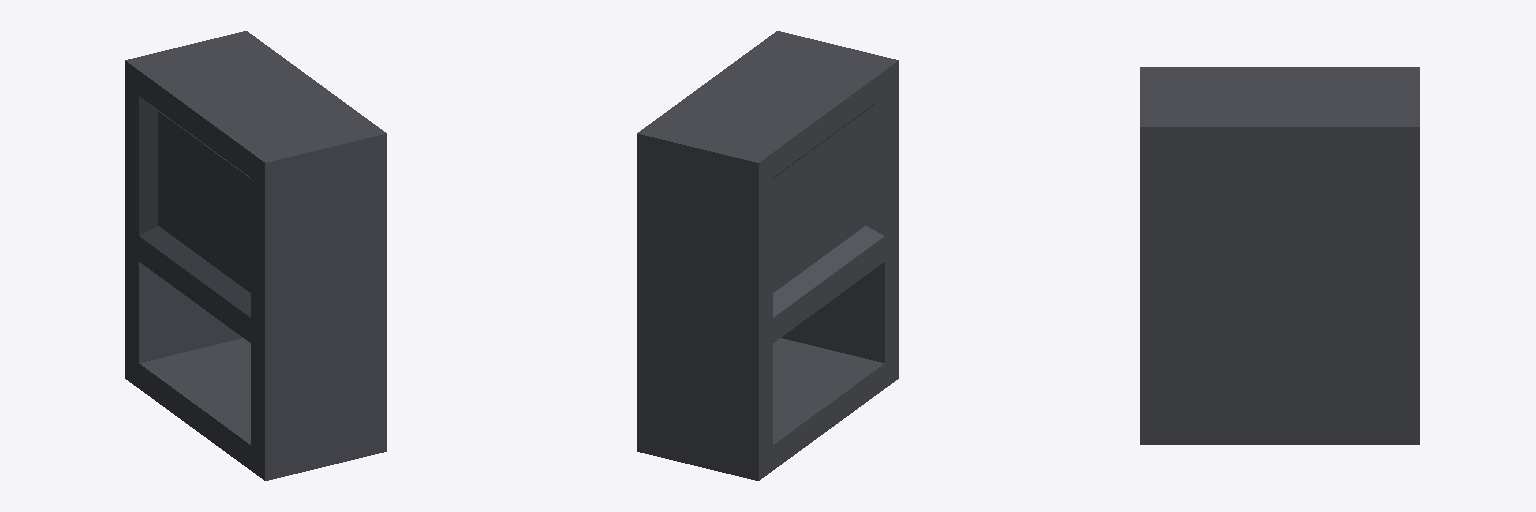
Rendered from 3DM_VendingMachine.obj.
The picture shows the model from 3 angles: view 1: azimuth 30°, elevation 25°; view 2: azimuth 150°, elevation 25°; view 3: azimuth 270°, elevation 25°; orthographic projection.
Visible parts, largest first — view 1: block, wedge; view 2: block, wedge; view 3: block.
Boxes of the visible parts, box(x1,y1,x2,y2) form: block: box(125, 31, 386, 480); wedge: box(139, 104, 250, 312); block: box(637, 31, 898, 480); wedge: box(773, 104, 884, 312); block: box(1140, 67, 1419, 444).
Size of the model in its own units: 1 by 2.5 by 2.